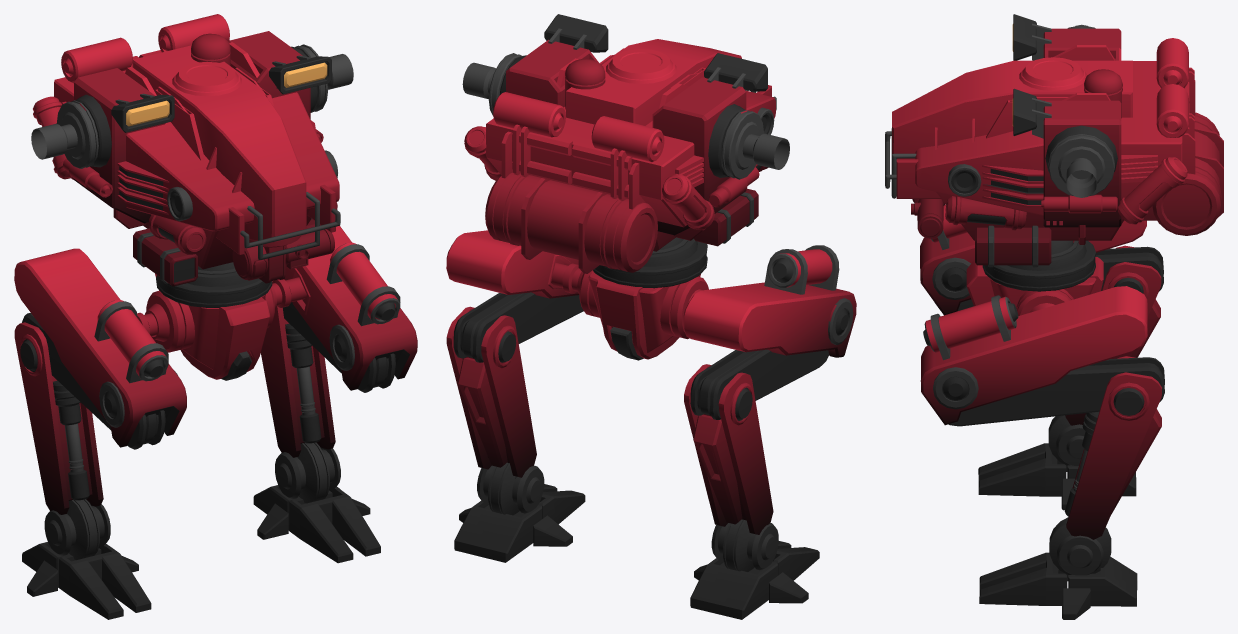
The model's file is mech.bak.glb.
The picture shows the model from 3 angles, left to right: view 1: azimuth 30°, elevation 25°; view 2: azimuth 150°, elevation 25°; view 3: azimuth 270°, elevation 25°; orthographic projection. The views are drawn at different scales.
Visible parts, largest first — view 1: Battle_mech_03_torso_poly, Battle_mech_03_R_hips_poly, Mech, Battle_mech_03_L_hips_poly, Battle_mech_03_R_leg_poly, Battle_mech_03_R_foot_poly, Battle_mech_03_L_foot_poly, Battle_mech_03_L_leg_poly, Battle_mech_03_R_knee_poly, Battle_mech_03_L_knee_poly, Battle_mech_03_torso_weapon_poly; view 2: Battle_mech_03_torso_poly, Battle_mech_03_R_hips_poly, Mech, Battle_mech_03_L_leg_poly, Battle_mech_03_R_leg_poly, Battle_mech_03_L_foot_poly, Battle_mech_03_R_foot_poly, Battle_mech_03_L_hips_poly, Battle_mech_03_R_knee_poly, Battle_mech_03_L_knee_poly, Battle_mech_03_torso_weapon_poly; view 3: Battle_mech_03_torso_poly, Battle_mech_03_L_hips_poly, Battle_mech_03_L_leg_poly, Battle_mech_03_L_foot_poly, Mech, Battle_mech_03_L_knee_poly, Battle_mech_03_R_foot_poly, Battle_mech_03_R_hips_poly, Battle_mech_03_R_leg_poly, Battle_mech_03_R_knee_poly, Battle_mech_03_torso_weapon_poly.
Part boxes in pixels (x1,y1,x2,y2): Battle_mech_03_torso_poly: (31, 14, 353, 286); Battle_mech_03_R_hips_poly: (14, 248, 186, 447); Mech: (137, 268, 306, 380); Battle_mech_03_L_hips_poly: (284, 225, 417, 390); Battle_mech_03_R_leg_poly: (14, 322, 103, 514); Battle_mech_03_R_foot_poly: (22, 499, 151, 619); Battle_mech_03_L_foot_poly: (253, 442, 380, 563); Battle_mech_03_L_leg_poly: (261, 281, 335, 457); Battle_mech_03_R_knee_poly: (22, 313, 165, 449); Battle_mech_03_L_knee_poly: (283, 302, 395, 392); Battle_mech_03_torso_weapon_poly: (191, 33, 230, 65); Battle_mech_03_torso_poly: (462, 14, 789, 273); Battle_mech_03_R_hips_poly: (683, 245, 856, 357); Mech: (551, 238, 708, 360); Battle_mech_03_L_leg_poly: (446, 306, 536, 477); Battle_mech_03_R_leg_poly: (684, 364, 773, 534); Battle_mech_03_L_foot_poly: (454, 462, 585, 562); Battle_mech_03_R_foot_poly: (690, 519, 819, 619); Battle_mech_03_L_hips_poly: (446, 230, 579, 298); Battle_mech_03_R_knee_poly: (690, 349, 828, 419); Battle_mech_03_L_knee_poly: (453, 292, 583, 362); Battle_mech_03_torso_weapon_poly: (565, 59, 605, 109); Battle_mech_03_torso_poly: (885, 14, 1223, 267); Battle_mech_03_L_hips_poly: (920, 286, 1147, 425); Battle_mech_03_L_leg_poly: (1064, 356, 1161, 539); Battle_mech_03_L_foot_poly: (979, 517, 1137, 619); Mech: (966, 240, 1103, 315); Battle_mech_03_L_knee_poly: (948, 357, 1164, 426); Battle_mech_03_R_foot_poly: (978, 415, 1136, 510); Battle_mech_03_R_hips_poly: (920, 204, 1146, 315); Battle_mech_03_R_leg_poly: (1065, 245, 1161, 425); Battle_mech_03_R_knee_poly: (935, 246, 1163, 310); Battle_mech_03_torso_weapon_poly: (1084, 69, 1122, 118).
Size of what is drawn, in the model's own units: 4.72 by 6.6 by 4.22.
Materials: 1 (1 with a texture image).
